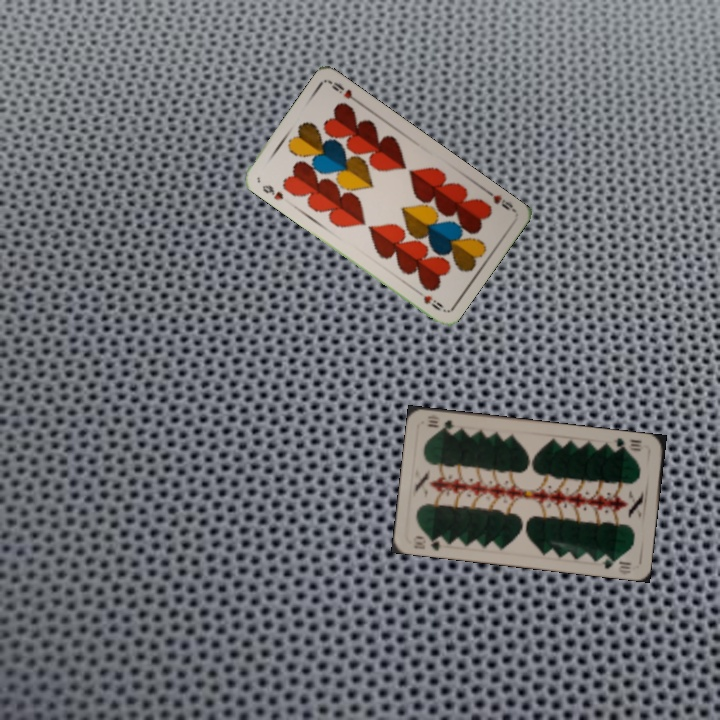G10: (409, 532, 448, 553), (608, 434, 644, 454)
H9: (481, 185, 517, 214), (258, 181, 286, 203)
